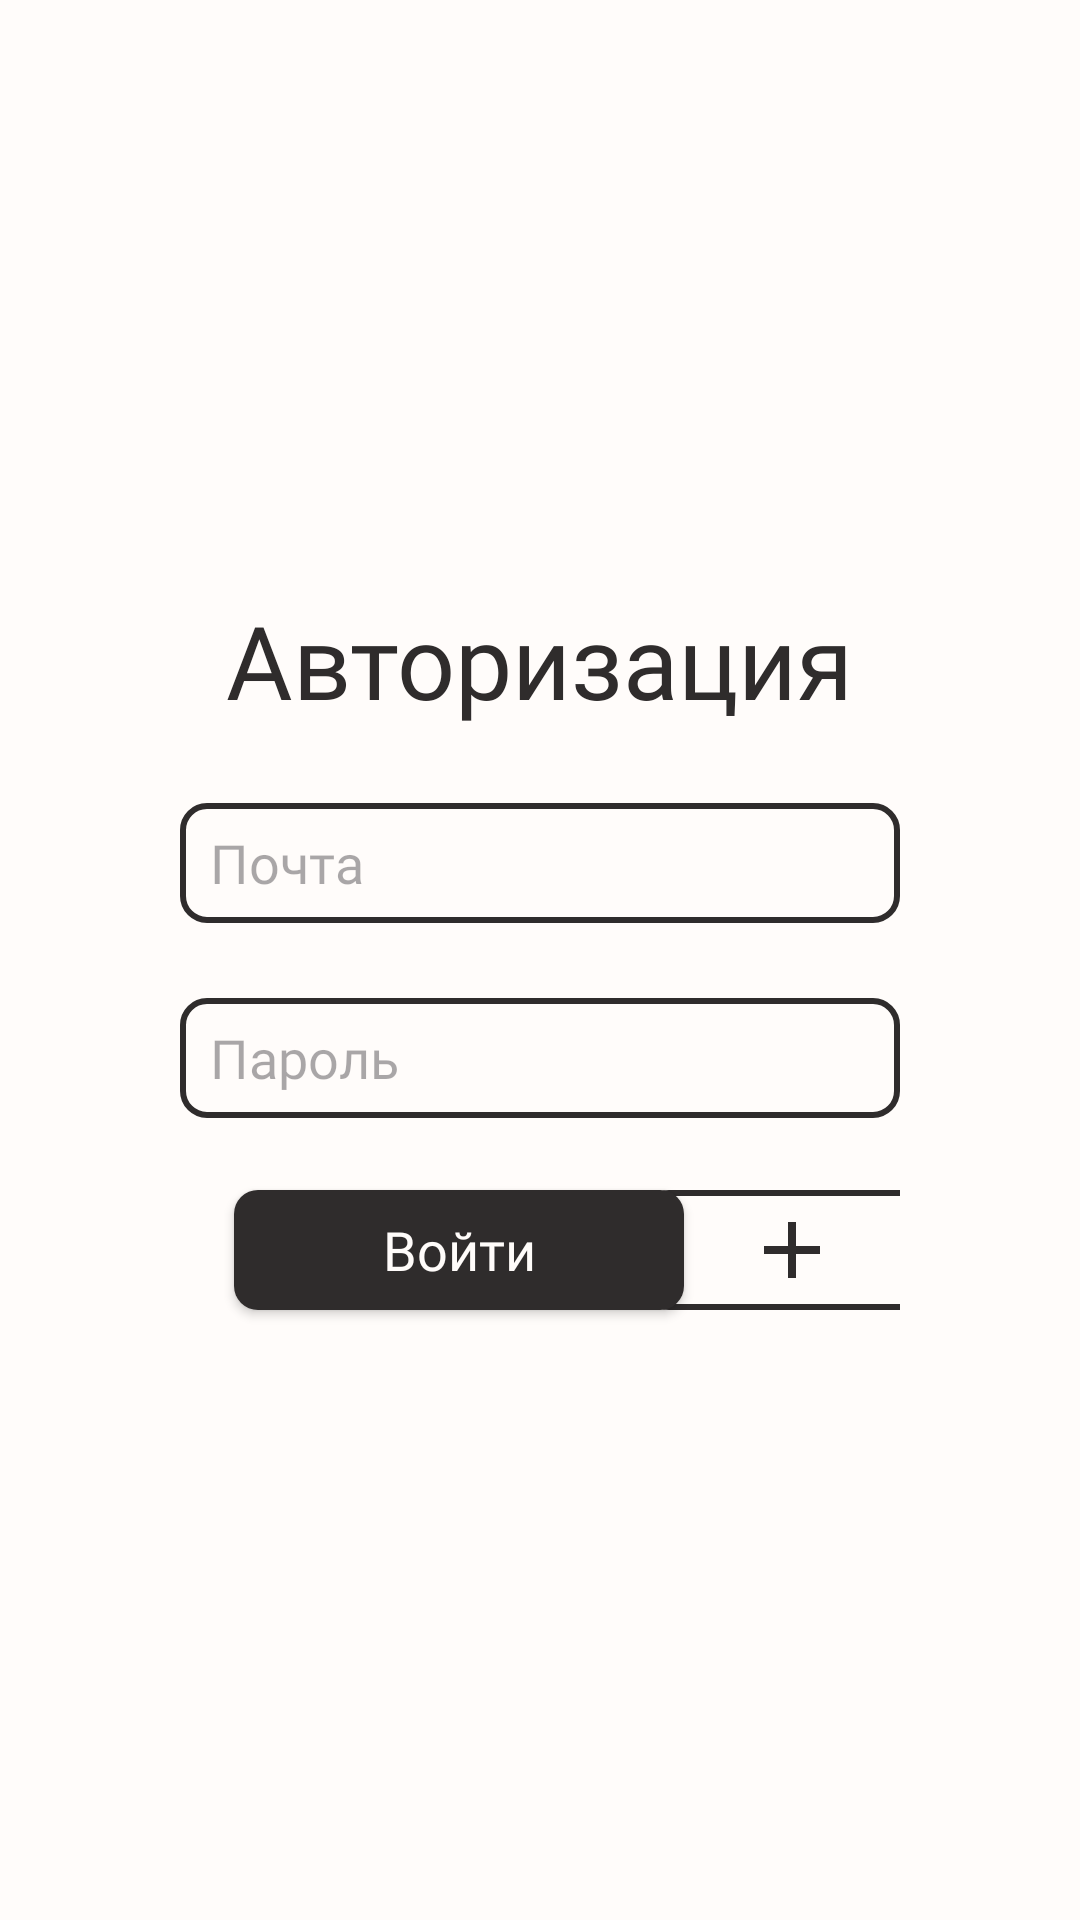

Named icons in this screenshot (1080px x 1920px) and their centers, [x,y]:
create account: [771,1250]
